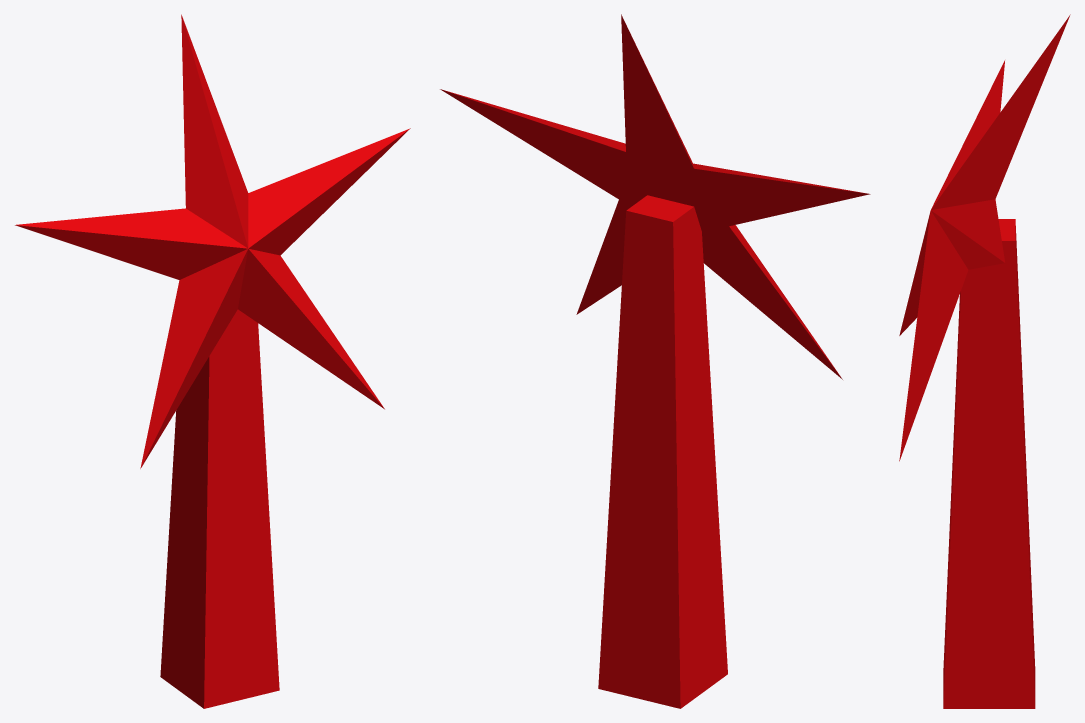
Rendered from звёздин.fbx.
3 views of the same model, side by side, from view 1: azimuth 30°, elevation 25°; view 2: azimuth 150°, elevation 25°; view 3: azimuth 270°, elevation 25° (orthographic). The views are drawn at different scales.
Parts seen in each view (by area): view 1: Cylinder, Cube; view 2: Cube, Cylinder; view 3: Cube, Cylinder.
Part boxes in pixels (<box>): Cylinder: <box>15,14,410,468</box>; Cube: <box>160,309,279,708</box>; Cube: <box>598,195,727,708</box>; Cylinder: <box>440,14,870,379</box>; Cube: <box>943,219,1035,708</box>; Cylinder: <box>899,14,1070,461</box>.
Size of the model in its own units: 190 by 294 by 67.65.
